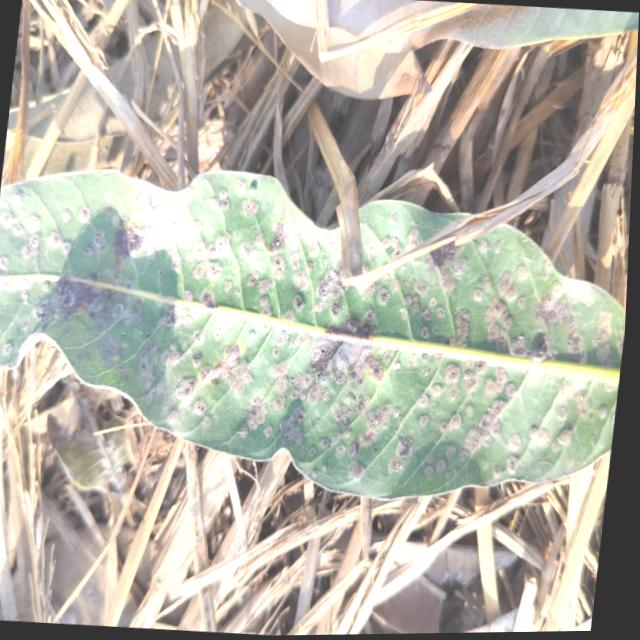Anthracnose: (396, 359, 520, 449), (307, 389, 379, 446), (252, 253, 289, 307)
